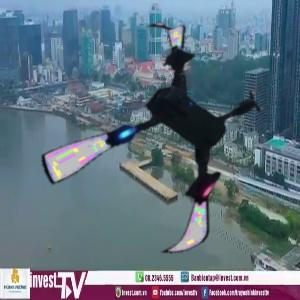drone: (45, 29, 283, 267)
